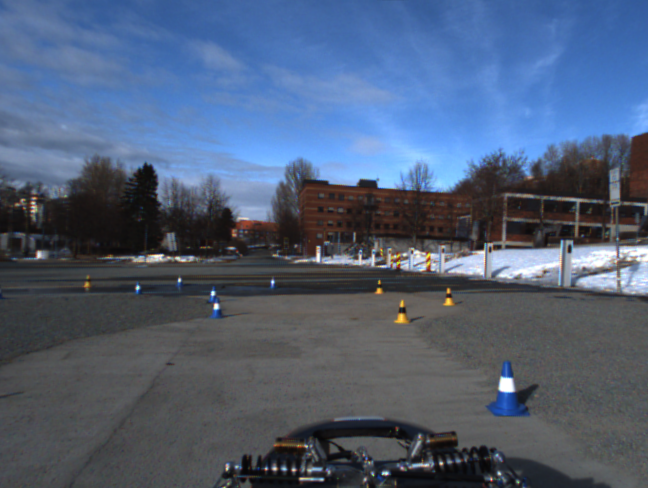cone-small-blue: (485, 356, 532, 419), (210, 298, 226, 319), (208, 285, 220, 304), (267, 276, 278, 288), (133, 282, 143, 295), (175, 275, 184, 288)
cone-small-yellow: (394, 299, 411, 323), (442, 287, 456, 306), (373, 279, 385, 294), (82, 275, 93, 289)
